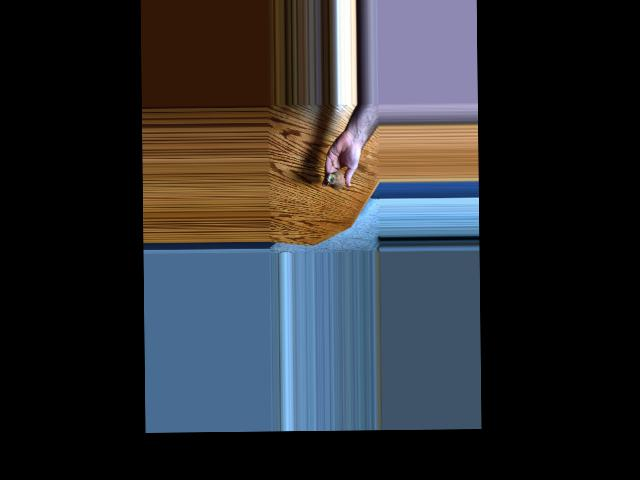sweet_potato: (328, 171, 345, 190)
